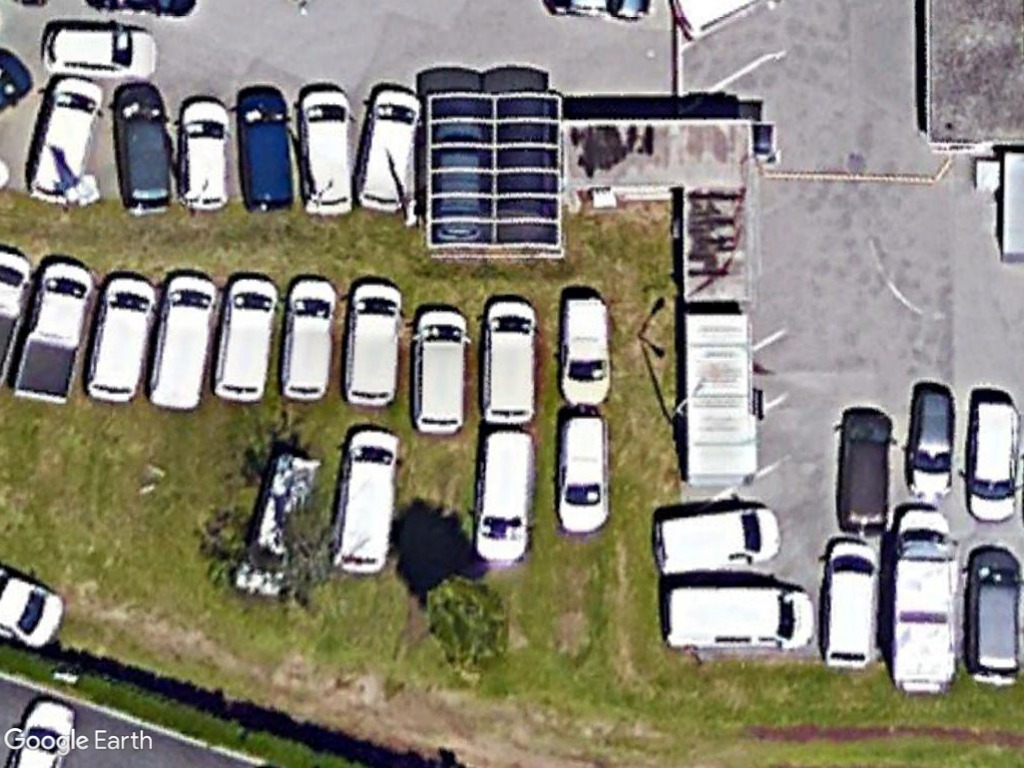car: (558, 289, 619, 415), (38, 21, 158, 81), (557, 413, 616, 535), (901, 385, 959, 502), (177, 94, 233, 214)
others: (7, 254, 92, 406)
truck: (885, 504, 963, 690)
van: (330, 428, 404, 578), (661, 583, 818, 653), (83, 271, 160, 403), (146, 269, 217, 410), (28, 72, 103, 203), (654, 506, 790, 575), (210, 270, 282, 399), (476, 294, 541, 432), (109, 77, 173, 215), (473, 427, 536, 566), (357, 82, 423, 211), (342, 278, 406, 411), (966, 544, 1024, 690), (411, 301, 473, 436), (963, 393, 1024, 527), (823, 535, 882, 672), (280, 269, 338, 403), (296, 81, 353, 217), (837, 407, 896, 536), (236, 80, 293, 211)
